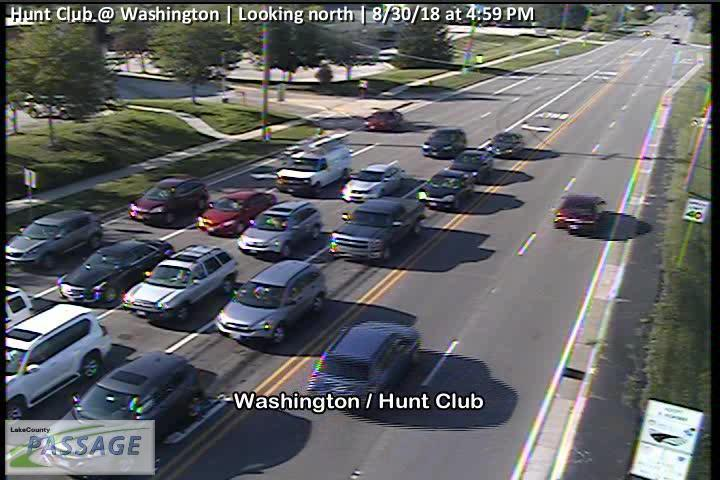SUV: (3, 305, 114, 421), (121, 246, 238, 319), (4, 209, 103, 269), (237, 202, 323, 257), (127, 175, 209, 227), (275, 142, 353, 194)
Sedan: (38, 350, 201, 454), (307, 321, 421, 410), (215, 259, 327, 345), (56, 237, 171, 309), (329, 196, 425, 266), (195, 190, 277, 238), (342, 162, 406, 200), (552, 193, 607, 236), (419, 170, 475, 210), (449, 149, 494, 179), (420, 130, 466, 159), (489, 131, 526, 155), (363, 110, 403, 130)
